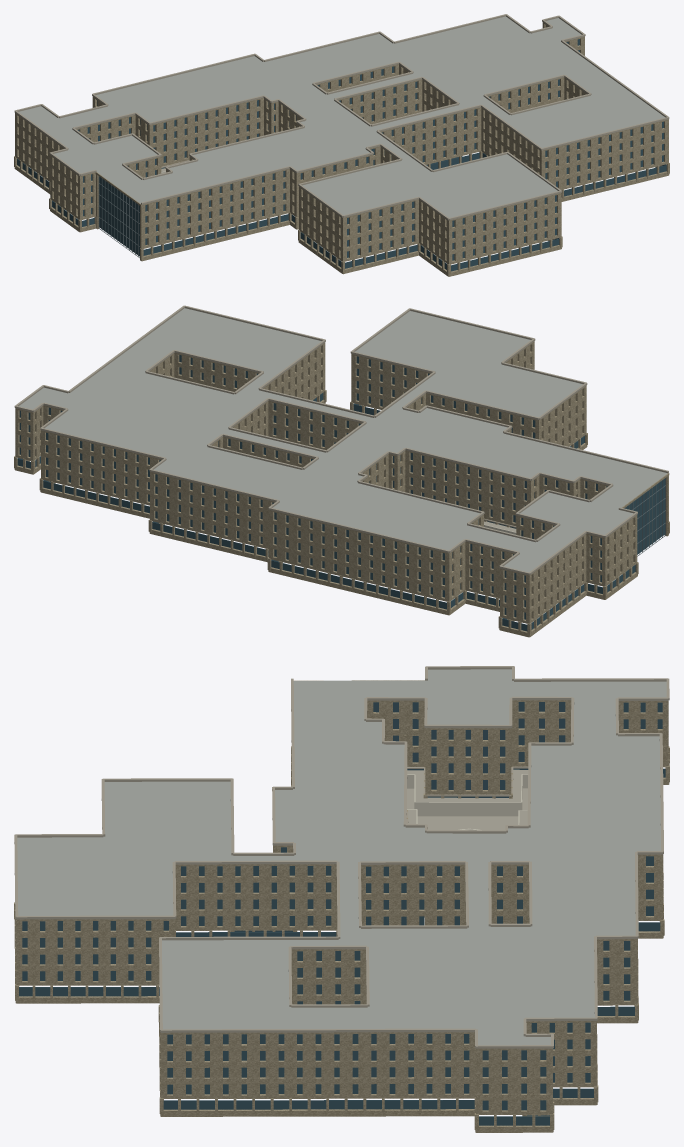
The model's file is zonghe.far.glb.
The picture shows the model from 3 angles, top to bottom: view 1: azimuth 30°, elevation 25°; view 2: azimuth 150°, elevation 25°; view 3: azimuth 270°, elevation 25°; orthographic projection. The views are drawn at different scales.
Visible parts, largest first — view 1: roof, wall, glass, trim, metal; view 2: roof, wall, trim, glass, metal; view 3: roof, wall, glass, trim, court_wall, paving, court_terrace.
Part boxes in pixels (left/top/right/bottom): roof: left=19, top=16, right=665, bottom=217; wall: left=14, top=22, right=669, bottom=276; glass: left=17, top=39, right=666, bottom=271; trim: left=14, top=14, right=669, bottom=220; metal: left=98, top=176, right=139, bottom=257; roof: left=19, top=308, right=667, bottom=572; wall: left=14, top=341, right=669, bottom=637; trim: left=14, top=305, right=668, bottom=574; glass: left=17, top=355, right=665, bottom=631; metal: left=626, top=478, right=665, bottom=556; roof: left=17, top=669, right=666, bottom=1045; wall: left=14, top=680, right=669, bottom=1132; glass: left=19, top=702, right=665, bottom=1125; trim: left=14, top=666, right=669, bottom=1048; court_wall: left=407, top=774, right=527, bottom=824; paving: left=407, top=788, right=527, bottom=830; court_terrace: left=407, top=769, right=528, bottom=824.
Bounding box in the file's own units: 154 × 16.34 × 112.
9 materials, 1 textured.
